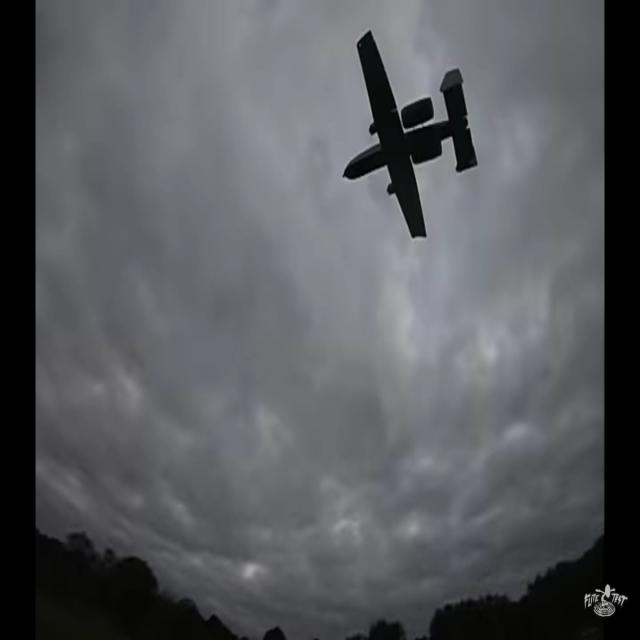iha: (344, 25, 476, 240)
